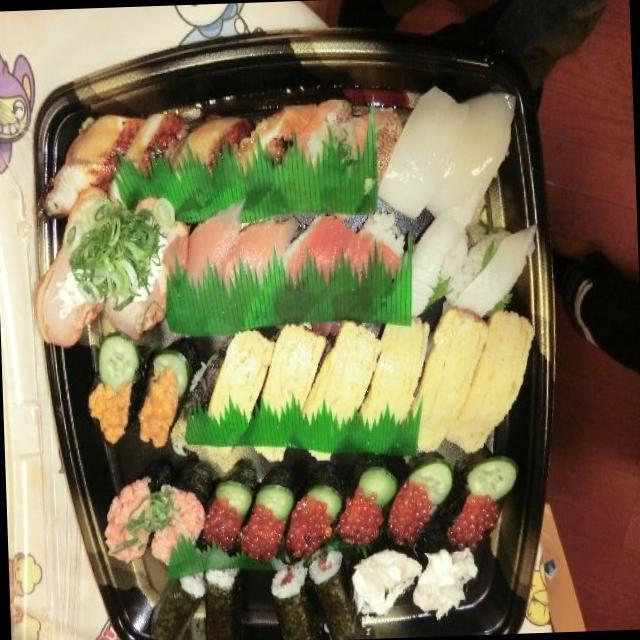Sushi: (74, 111, 514, 604)
